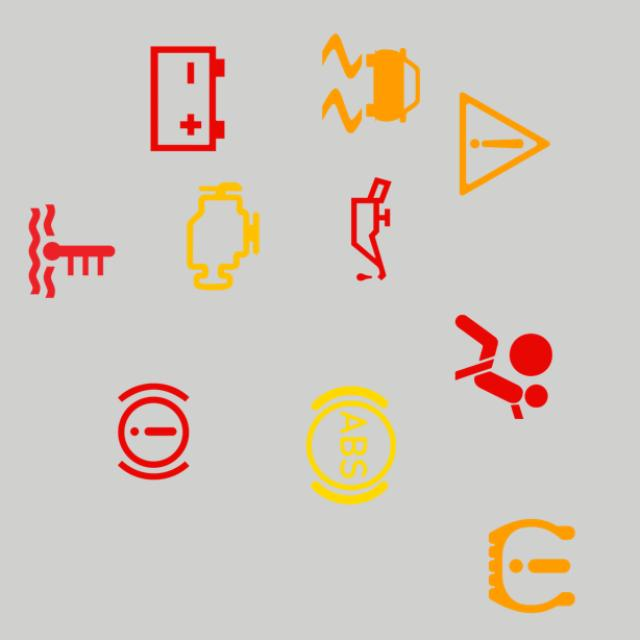Anti Lock Braking System: (286, 380, 416, 510)
Braking System Issue: (88, 366, 218, 496)
Charging System Issue: (122, 34, 252, 164)
Check Engine: (158, 172, 288, 302)
Electronic Stability Problem -ESP-: (306, 18, 436, 148)
Engine Overheating Warning Light: (7, 186, 137, 316)
Low Engine Oil Warning Light: (306, 164, 436, 294)
Low Tire Pressure Warning Light: (466, 501, 596, 631)
Master warning light: (440, 79, 570, 209)
SRS-Airbag: (438, 302, 568, 432)
